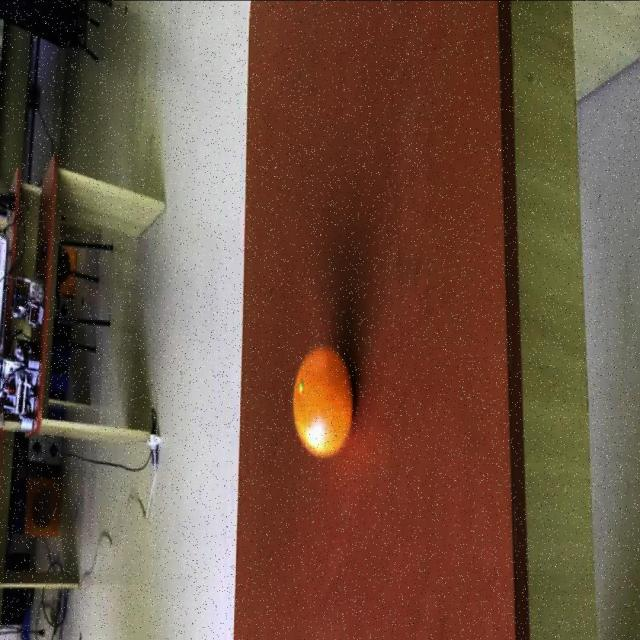Orange: (292, 346, 353, 459)
